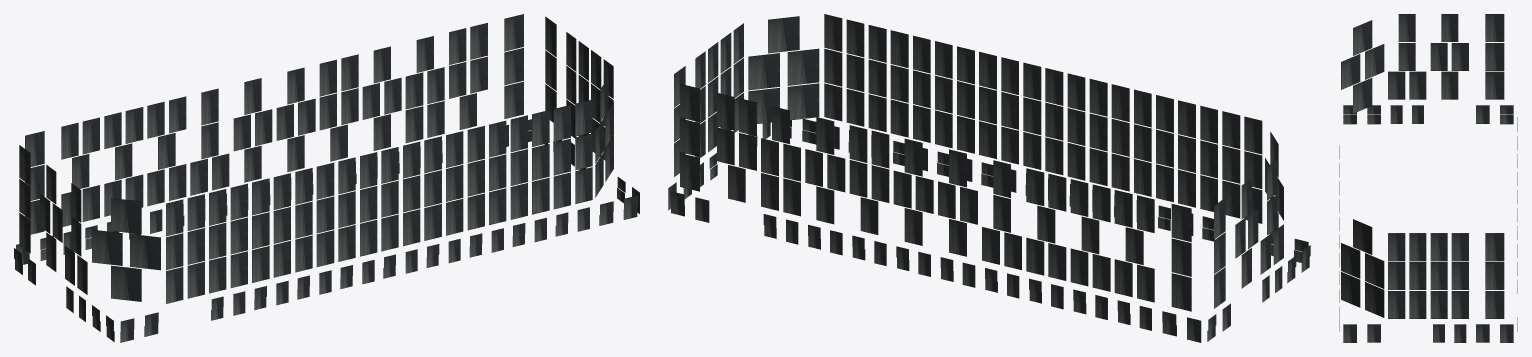
The model's file is TRANS_Building_4stores_Residential.obj.
3 views of the same model, side by side, from view 1: azimuth 30°, elevation 25°; view 2: azimuth 150°, elevation 25°; view 3: azimuth 270°, elevation 25° (orthographic). The views are drawn at different scales.
Parts seen in each view (by area): view 1: TRANS_Building_4stores_Residential; view 2: TRANS_Building_4stores_Residential; view 3: TRANS_Building_4stores_Residential.
Boxes of the visible parts, x1=… form: TRANS_Building_4stores_Residential: x1=14, y1=14, x2=639, y2=342; TRANS_Building_4stores_Residential: x1=668, y1=14, x2=1310, y2=342; TRANS_Building_4stores_Residential: x1=1339, y1=14, x2=1517, y2=342.
Size of the model in its own units: 16.03 by 3.75 by 5.53.
